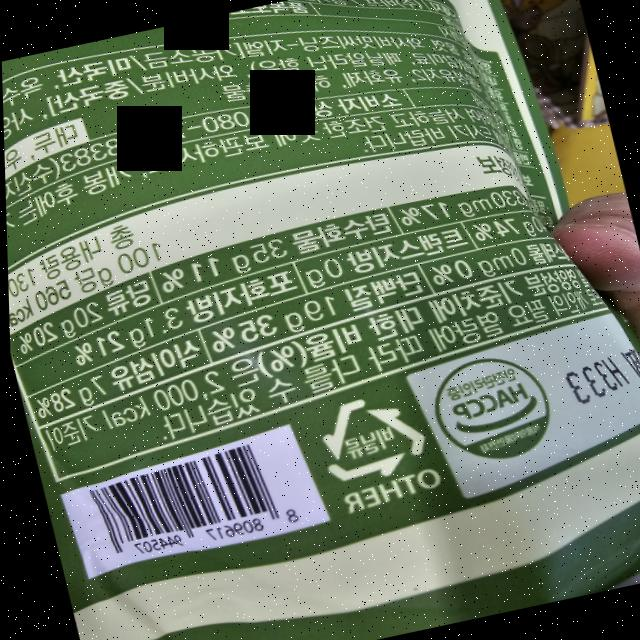Vinyl: (305, 383, 434, 491)
